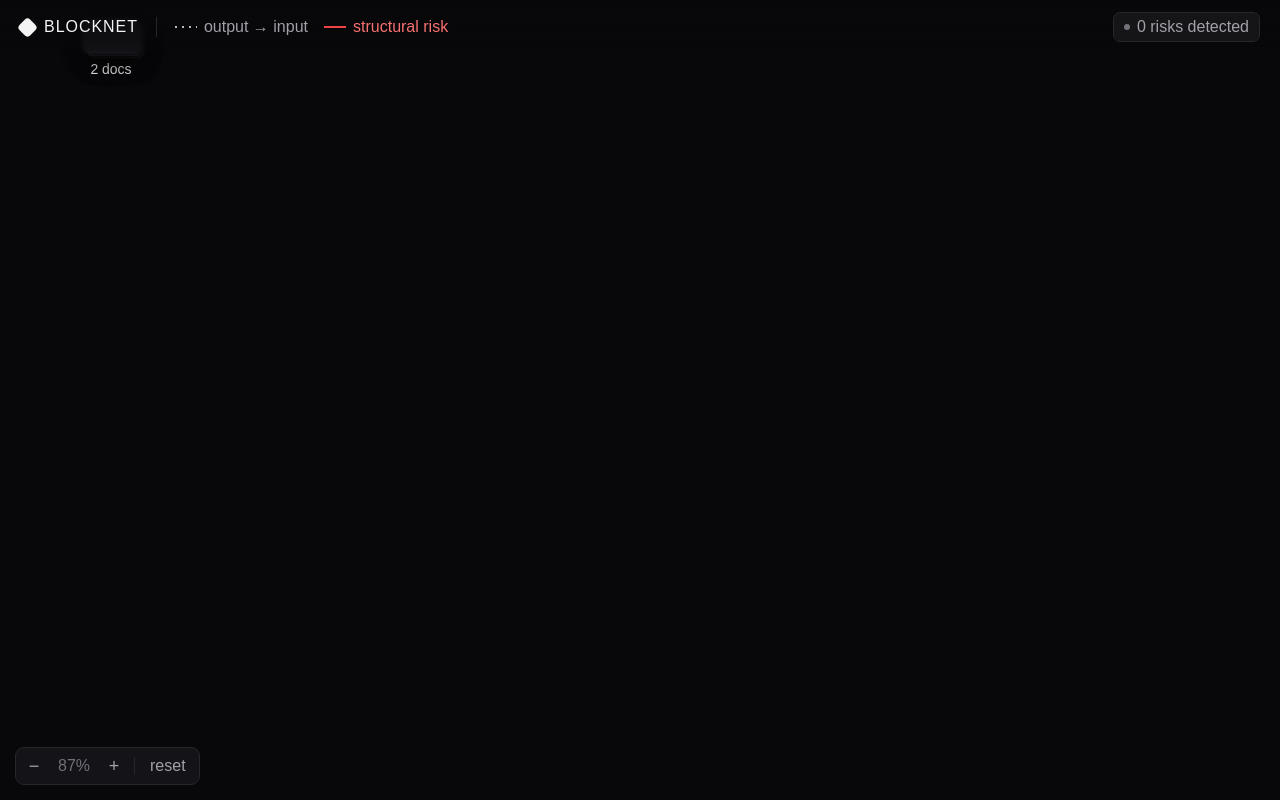
it: LayerCanvas › doc-stack card › closing the doc-stack popover clears the selection, so re-clicking reopens it
Step 1. Click the text "docs" → (111,70), box [90,62,132,77]
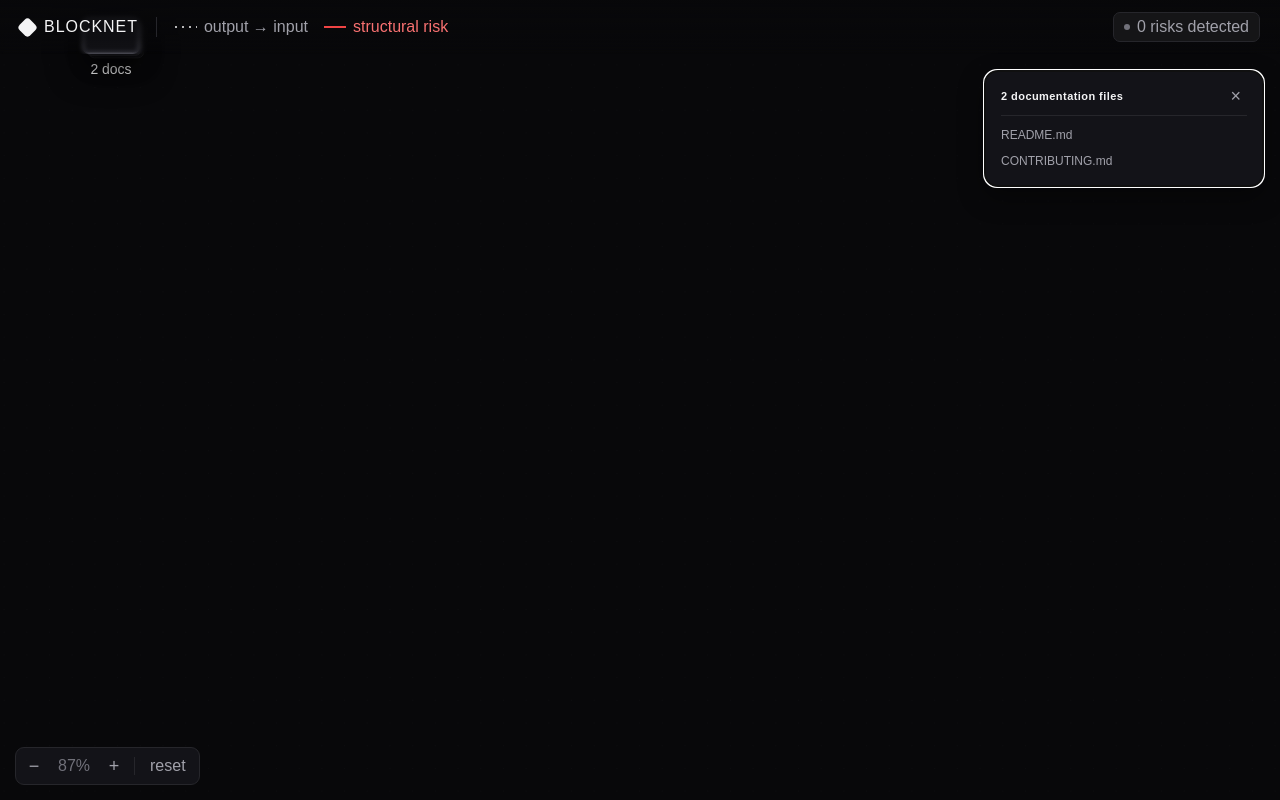
Step 2. Click the button named "close" → (1236,96), box [1224,85,1247,107]
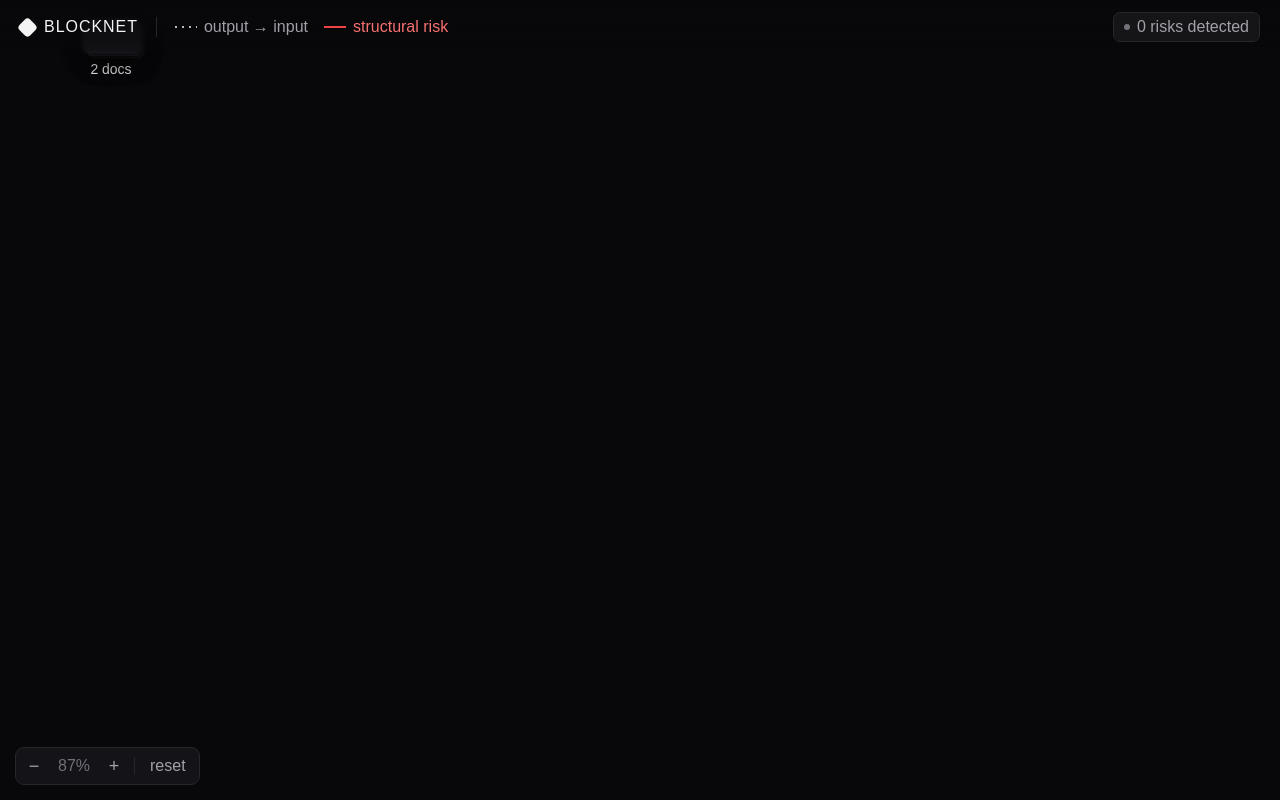
expect the dialog is gone: met
Step 3. Click the text "docs" → (111,70), box [90,62,132,77]
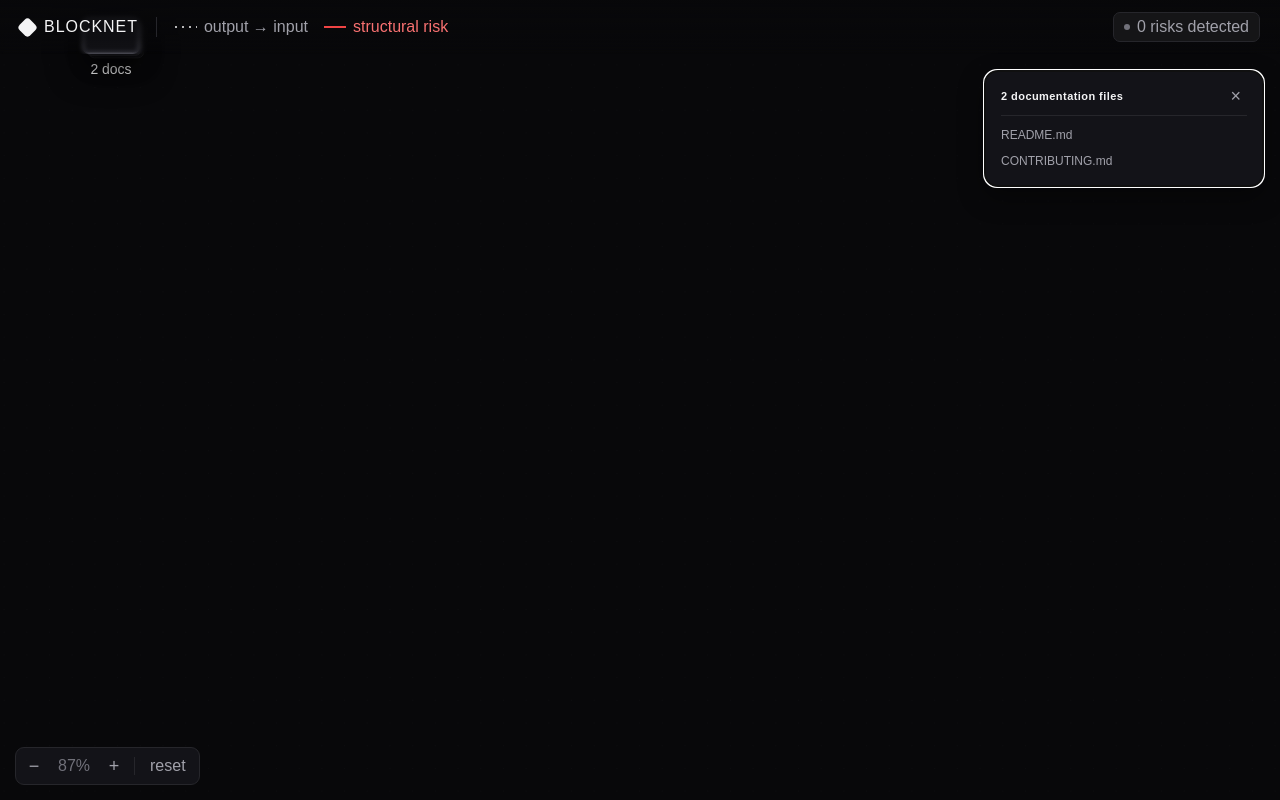
expect the dialog is shown: met, box [984,70,1264,187]
